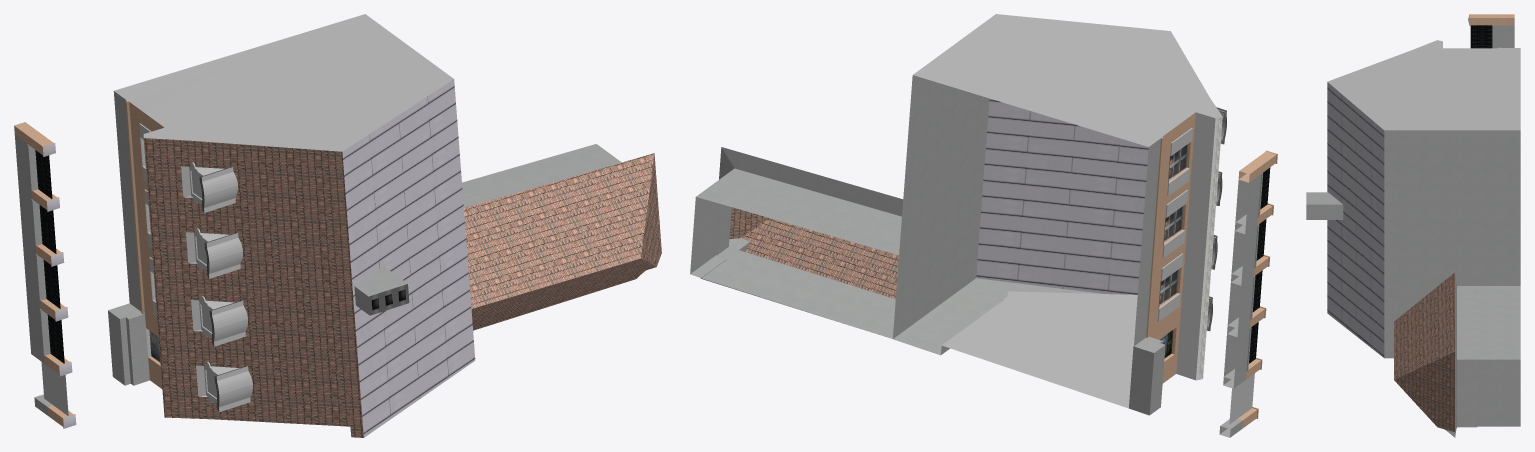
Rendered from Uus_18.obj.
3 renders of one model, left to right at view 1: azimuth 30°, elevation 25°; view 2: azimuth 150°, elevation 25°; view 3: azimuth 270°, elevation 25°, orthographic. The views are drawn at different scales.
Visible parts, largest first — view 1: Uus_18, Uus_18_aed; view 2: Uus_18, Uus_18_aed; view 3: Uus_18, Uus_18_aed.
Part boxes in pixels (x1,y1,x2,y2): Uus_18: (108,14,661,437); Uus_18_aed: (14,122,76,428); Uus_18: (690,14,1226,415); Uus_18_aed: (1219,150,1277,437); Uus_18: (1306,40,1520,437); Uus_18_aed: (1468,14,1514,48).
Size of the model in its own units: 27.34 by 13.23 by 10.84.
